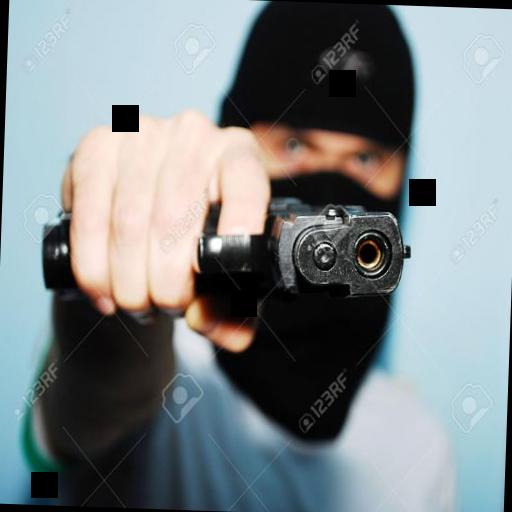Handgun: (25, 162, 414, 322)
